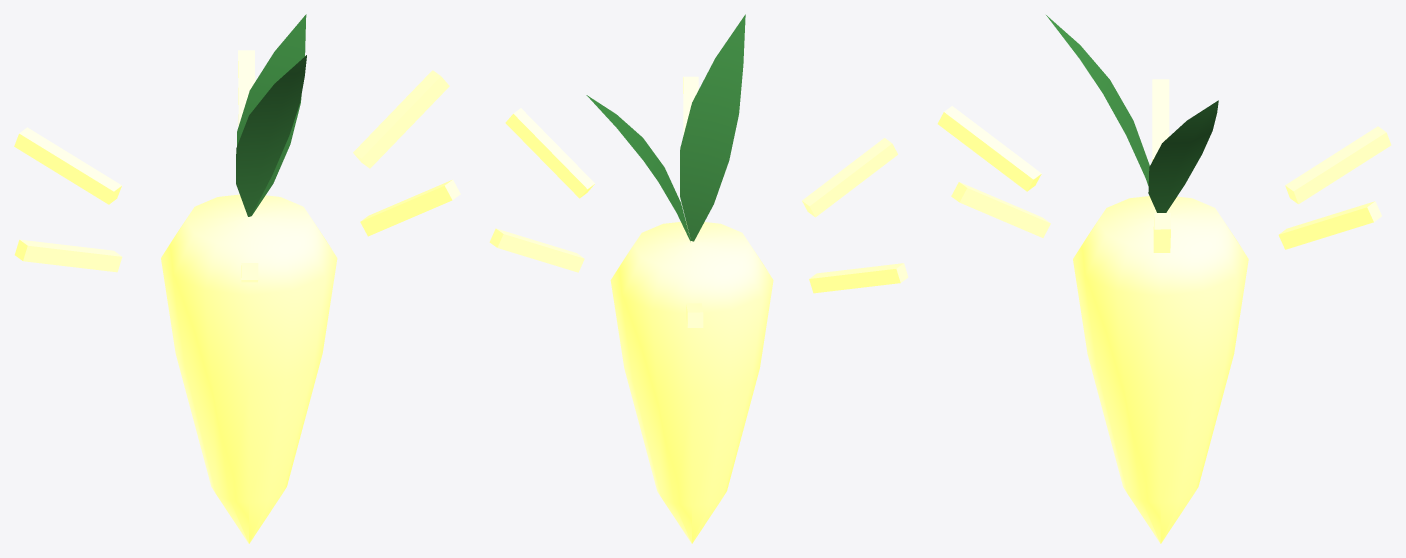
File: fruit-carrot-shocked.gltf
3 renders of one model, left to right at view 1: azimuth 30°, elevation 25°; view 2: azimuth 150°, elevation 25°; view 3: azimuth 270°, elevation 25°, orthographic. The views are drawn at different scales.
Bounding box in the file's own units: 0.517 × 0.6143 × 0.477.
